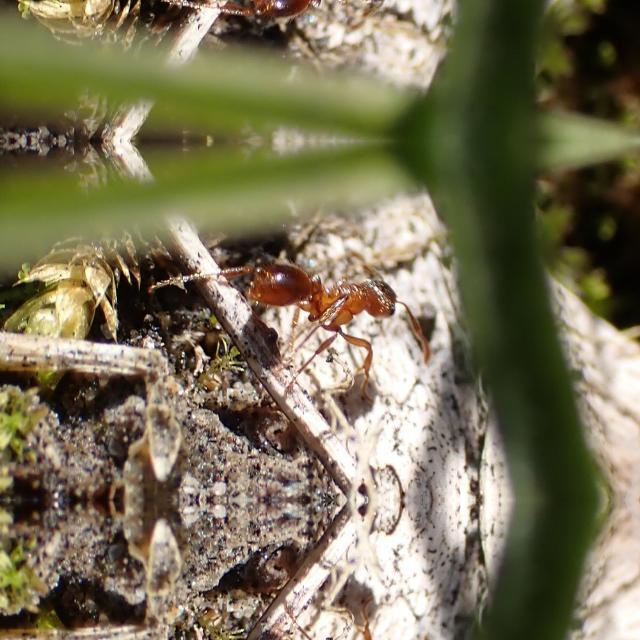Myrmica: (207, 242, 429, 351), (207, 0, 429, 38)
